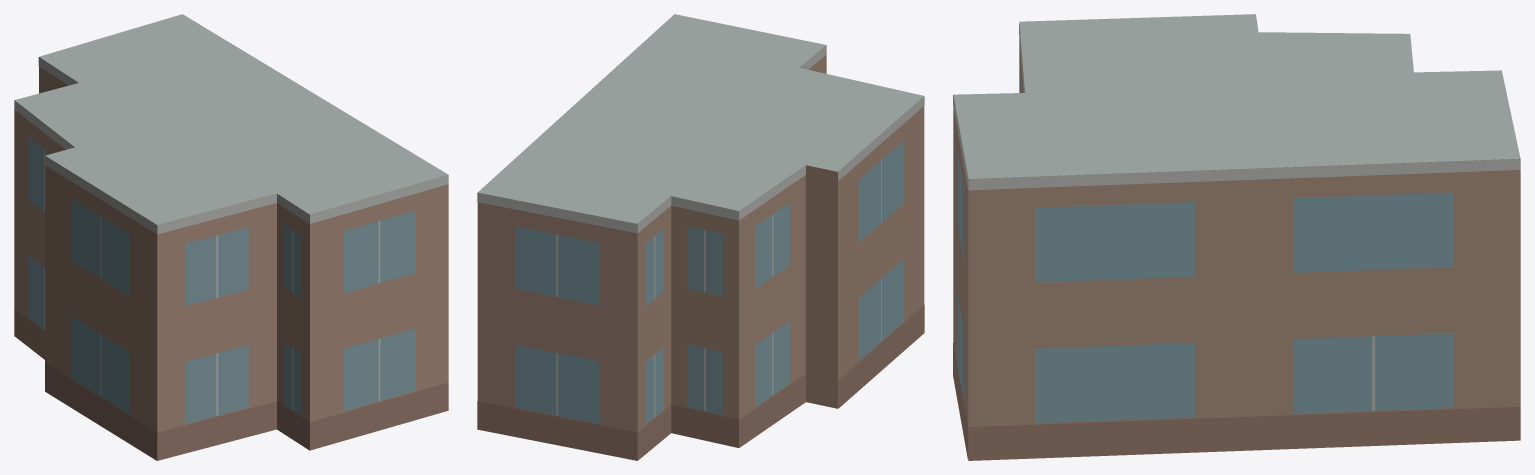
Rendered from survey-upis-32782590.glb.
3 renders of one model, left to right at view 1: azimuth 30°, elevation 25°; view 2: azimuth 150°, elevation 25°; view 3: azimuth 270°, elevation 25°, orthographic. The views are drawn at different scales.
Parts seen in each view (by area): view 1: survey-upis-32782590.tmp; view 2: survey-upis-32782590.tmp; view 3: survey-upis-32782590.tmp.
Boxes of the visible parts, x1,y1,x2,y2 form: survey-upis-32782590.tmp: (14,14,448,460); survey-upis-32782590.tmp: (477,14,924,460); survey-upis-32782590.tmp: (953,14,1520,460).
Size of the model in its own units: 7.67 by 6.1 by 11.14.
